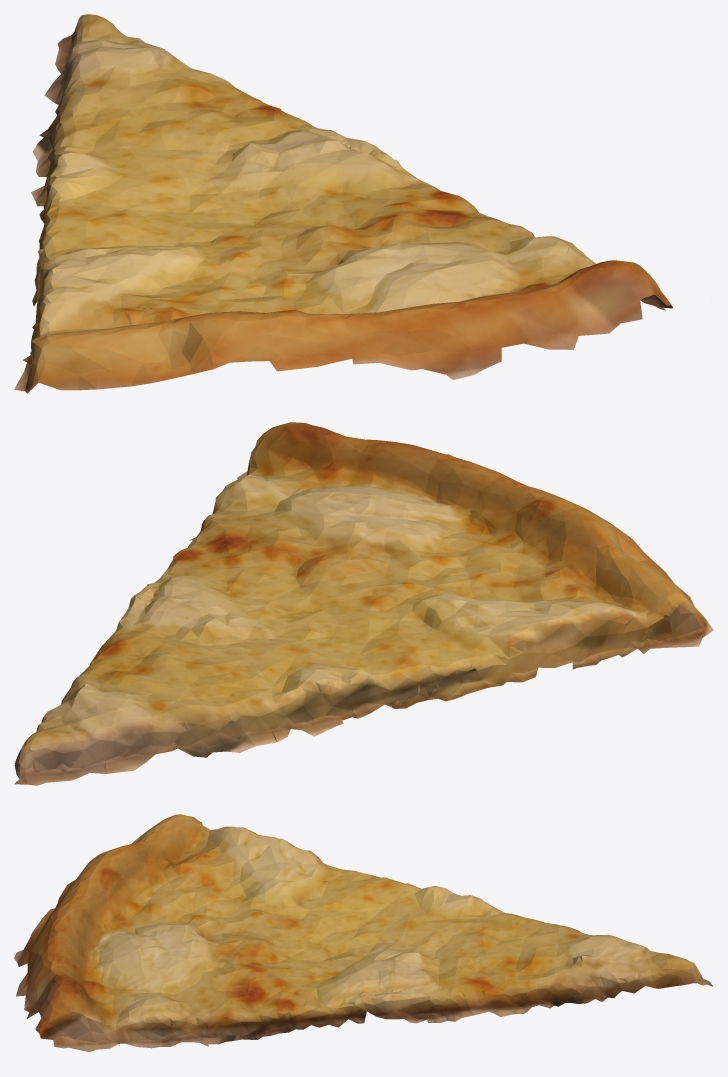
Rendered from goldenPizza001.fbx.
3 views of the same model, one above another, from view 1: azimuth 30°, elevation 25°; view 2: azimuth 150°, elevation 25°; view 3: azimuth 270°, elevation 25° (orthographic). The views are drawn at different scales.
Visible parts, largest first — view 1: Texture_0; view 2: Texture_0; view 3: Texture_0.
Part boxes in pixels (x1=…): Texture_0: x1=14, y1=14, x2=672, y2=393; Texture_0: x1=14, y1=422, x2=713, y2=785; Texture_0: x1=14, y1=814, x2=713, y2=1052.
Size of the model in its own units: 20.97 by 16.15 by 1.87.
